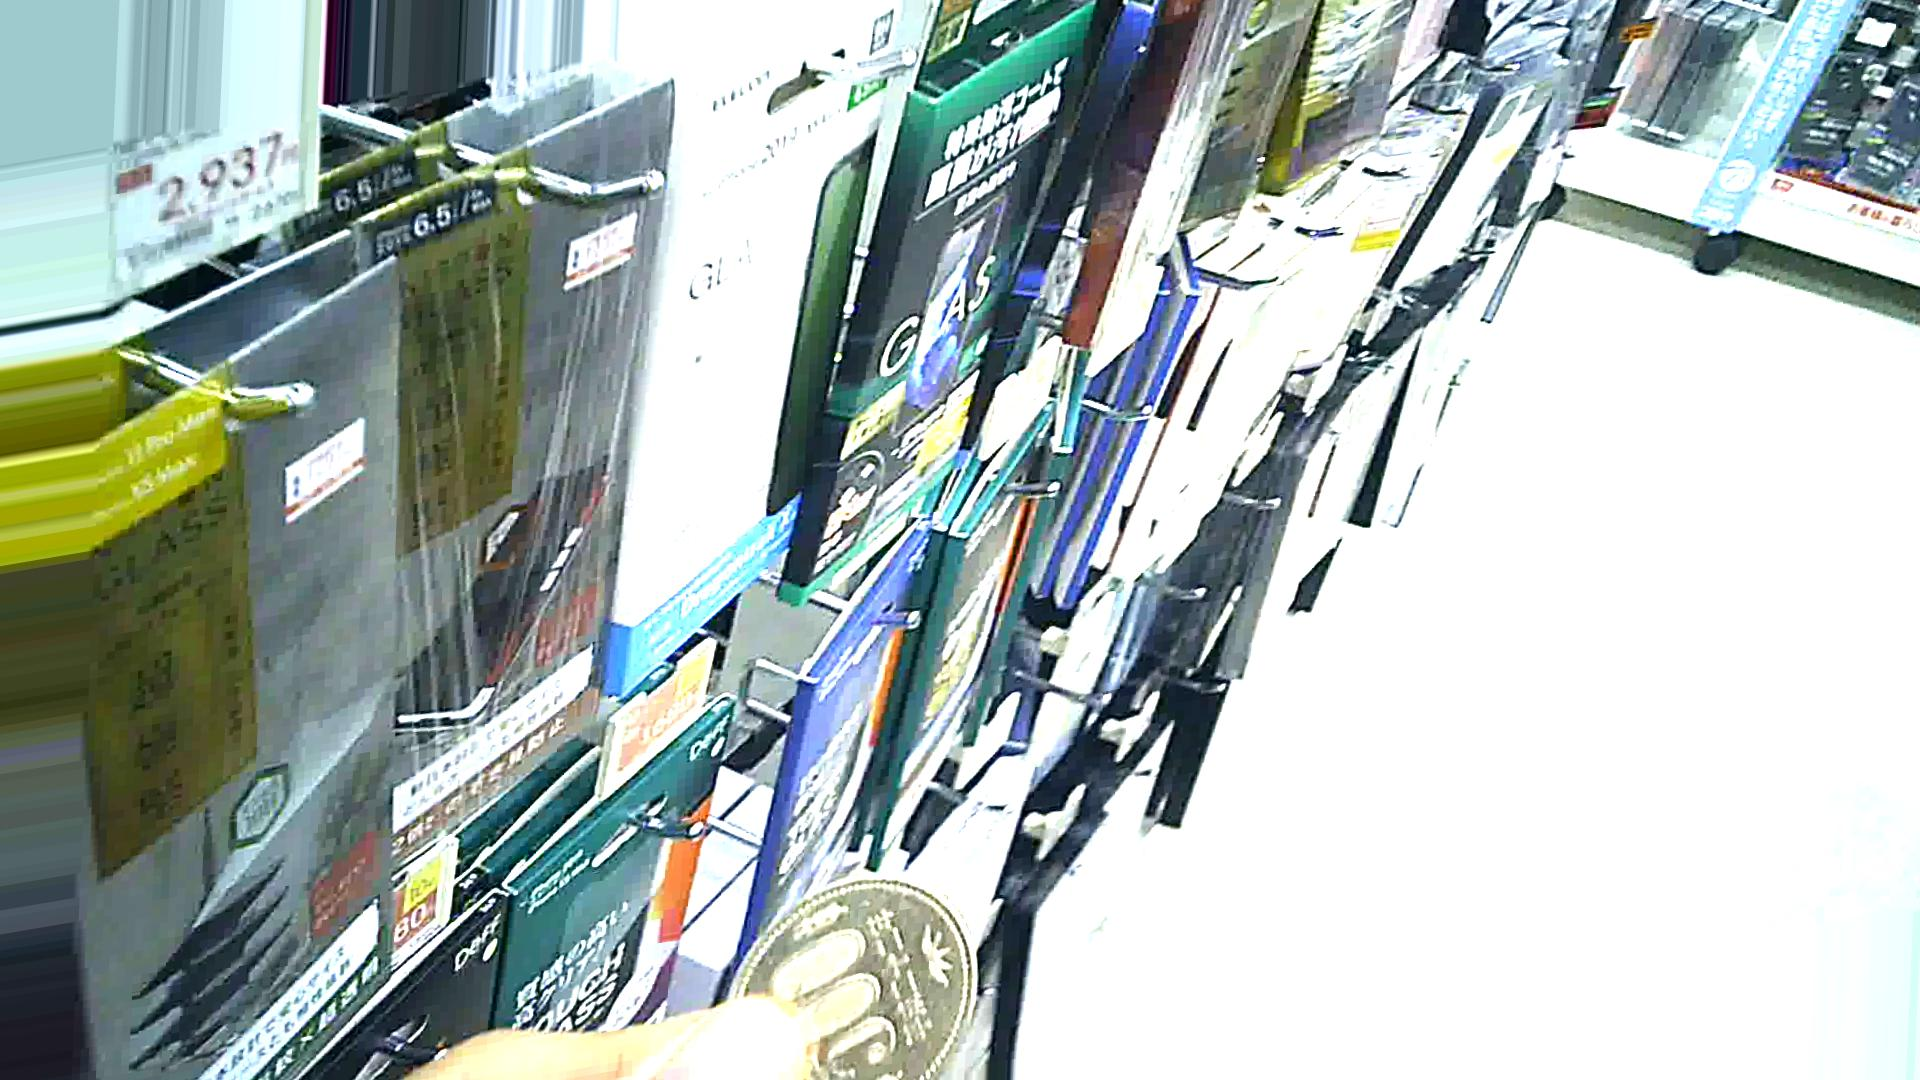500 Yen: (719, 889, 982, 1077)
